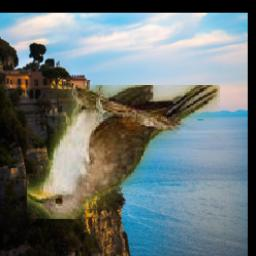Cuckoo: (26, 86, 219, 220)
